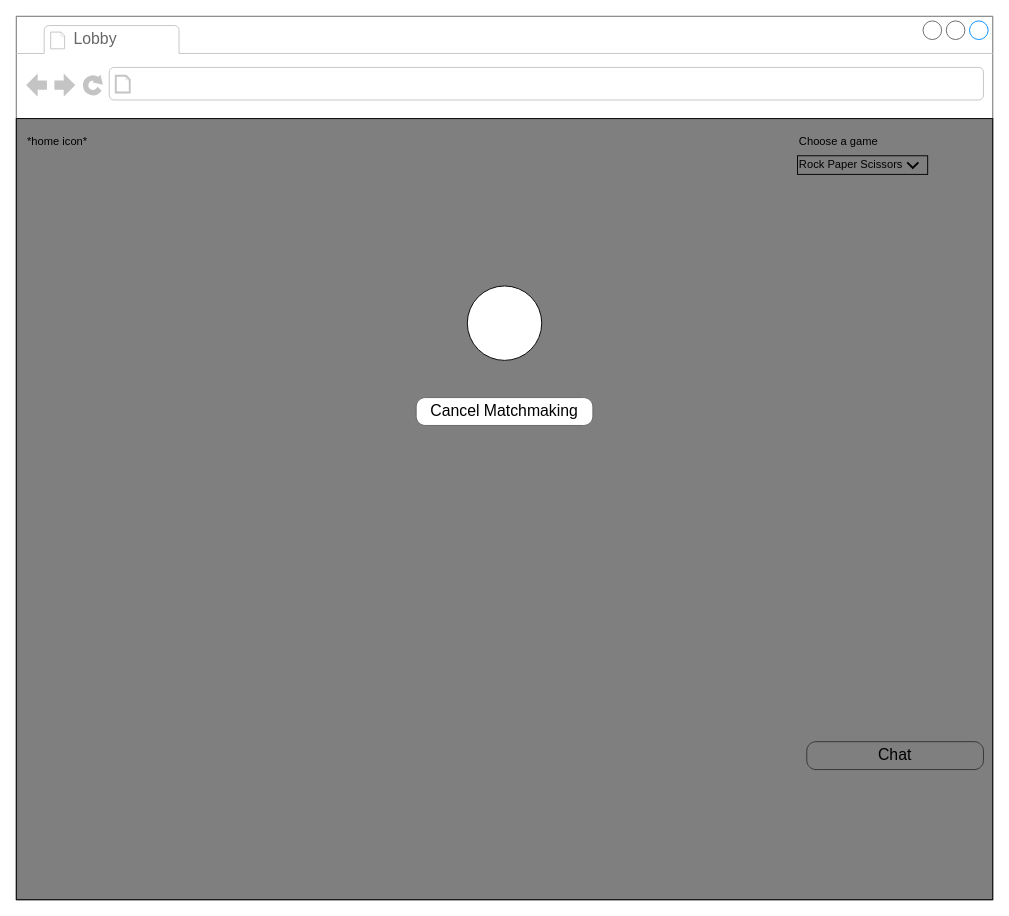
This 1009x916 diagram has some shape labels left out. Each missing label, with the box of its shape:
*Spinning circle*: (466, 285, 542, 360)
http://localhost/Assignment/page/lobby.php: (136, 71, 463, 96)
